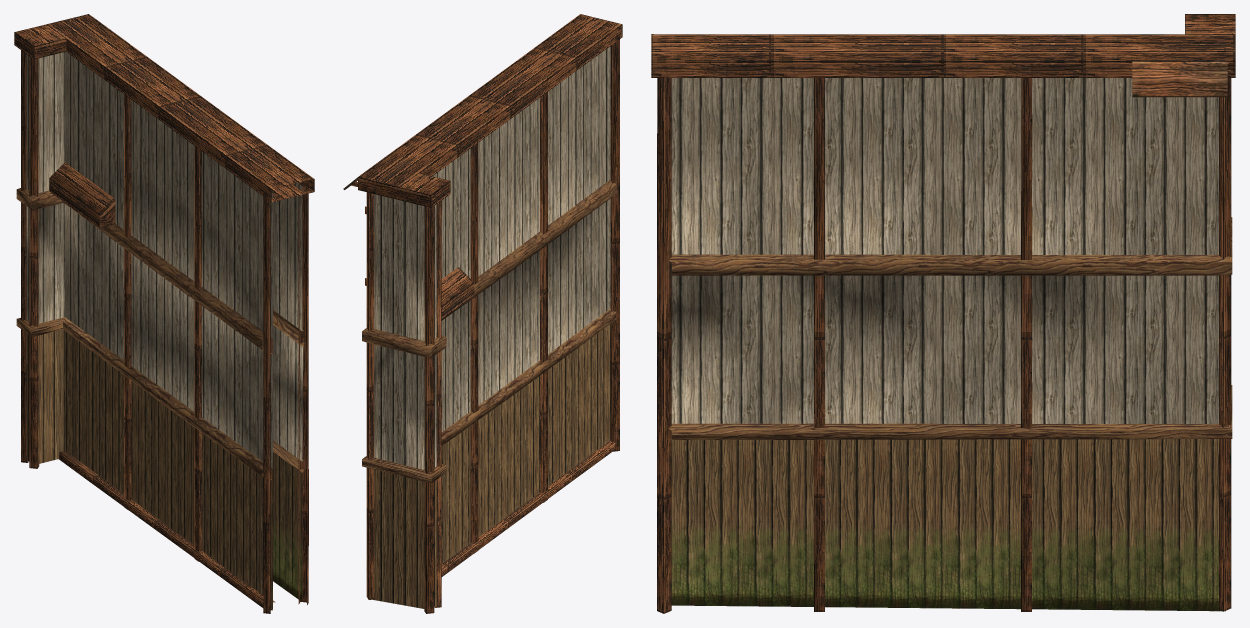
File: LAKETOWN_WAREHOUSE3_PS_WH3_CENTER5757__GX.obj
The picture shows the model from 3 angles, left to right: view 1: azimuth 30°, elevation 25°; view 2: azimuth 150°, elevation 25°; view 3: azimuth 270°, elevation 25°; orthographic projection. The views are drawn at different scales.
Visible parts, largest first — view 1: _Center5757__GX; view 2: _Center5757__GX; view 3: _Center5757__GX.
Boxes of the visible parts, x1,y1,x2,y2 form: _Center5757__GX: [14, 14, 314, 613]; _Center5757__GX: [343, 14, 622, 613]; _Center5757__GX: [651, 14, 1235, 613].
Bounding box in the file's own units: 299 × 1324 × 1264.
